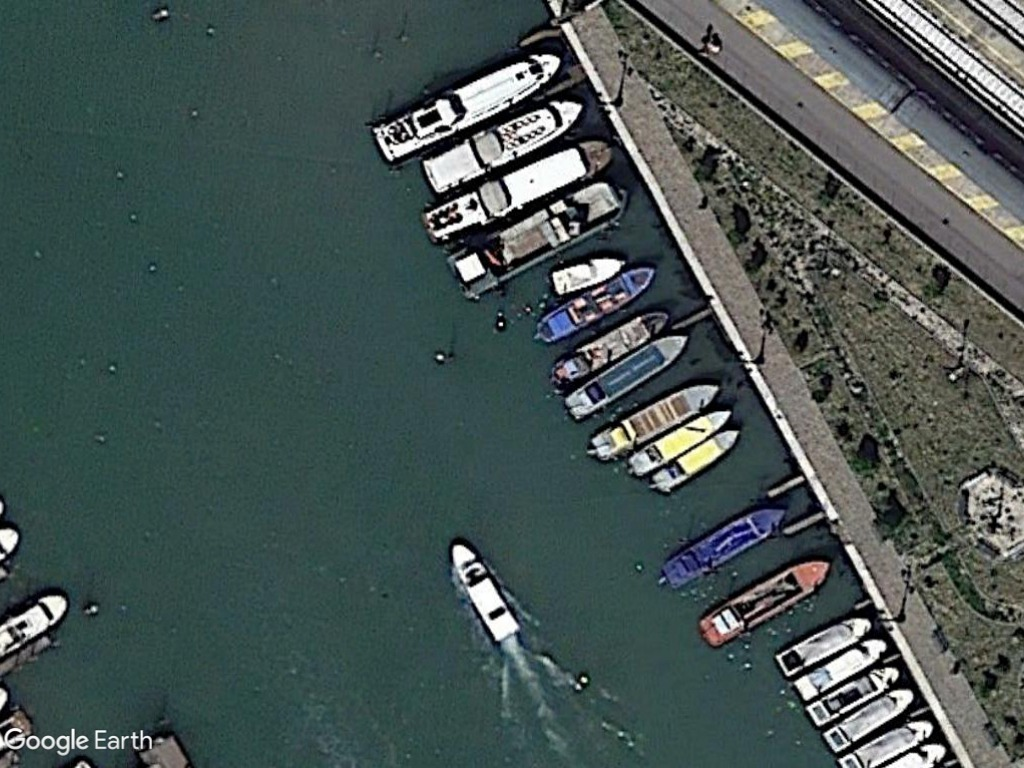boat: (444, 174, 622, 304), (369, 49, 565, 166), (419, 135, 610, 249), (417, 94, 584, 197), (694, 555, 833, 651), (559, 332, 691, 426), (655, 504, 789, 595), (584, 381, 721, 465), (547, 308, 673, 395), (532, 262, 658, 346), (448, 540, 523, 644), (625, 404, 732, 475), (772, 613, 872, 681), (788, 634, 888, 702), (649, 428, 743, 496), (802, 665, 900, 730), (820, 688, 913, 756), (833, 713, 933, 768), (547, 250, 628, 299)
